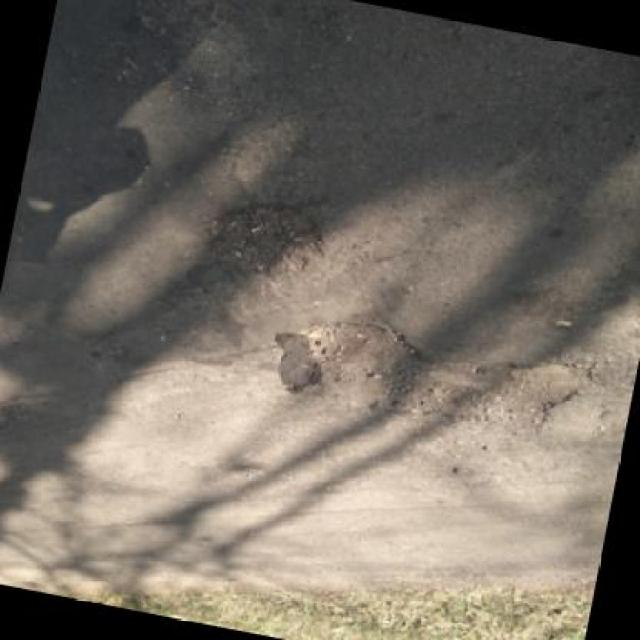pothole1: (282, 299, 603, 458), (195, 192, 334, 297)
